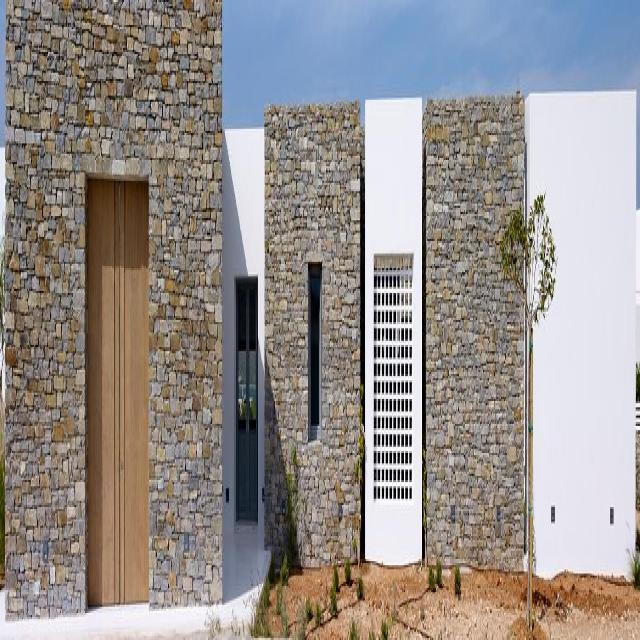door: (85, 175, 150, 620), (234, 271, 257, 528)
plant: (499, 182, 557, 345)
wall: (6, 0, 638, 622)
windows: (308, 260, 322, 446)
